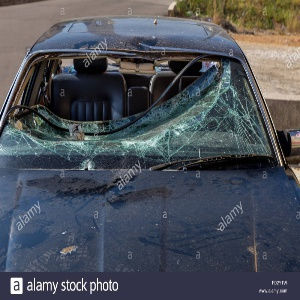front_windshield_glass: (29, 69, 247, 150)
